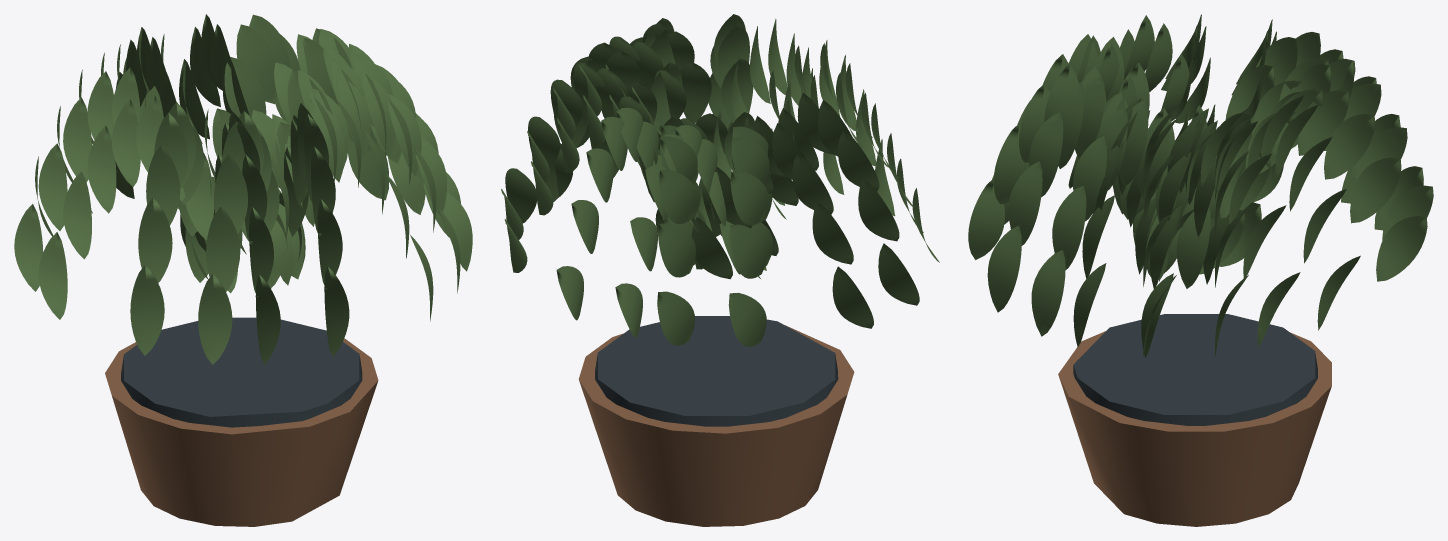
The model's file is plant-14-5.lod.glb.
3 views of the same model, side by side, from view 1: azimuth 30°, elevation 25°; view 2: azimuth 150°, elevation 25°; view 3: azimuth 270°, elevation 25° (orthographic).
Visible parts, largest first — view 1: part (×62); view 2: part (×64); view 3: part (×64).
Boxes of the visible parts, x1,y1,x2,y2 form: part (×62): (14,14,472,526); part (×64): (504,18,919,526); part (×64): (968,15,1433,526).
Bounding box in the file's own units: 1 × 1 × 1.
